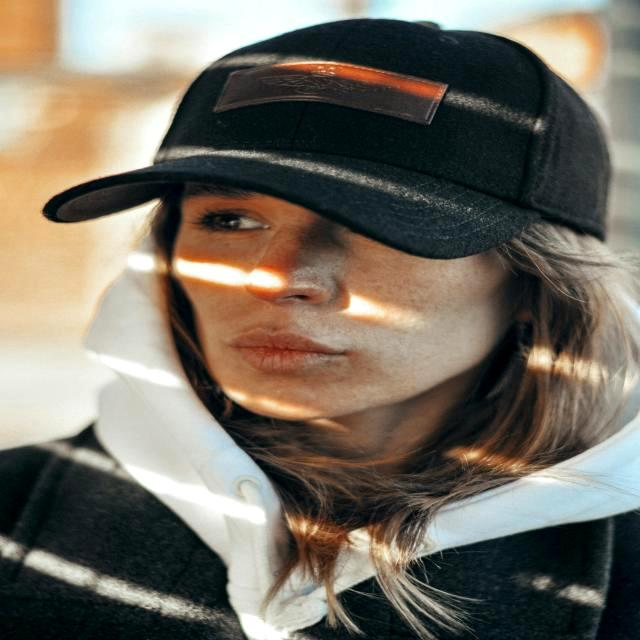no_hard_hat: (44, 19, 610, 259)
person: (3, 20, 638, 640)
